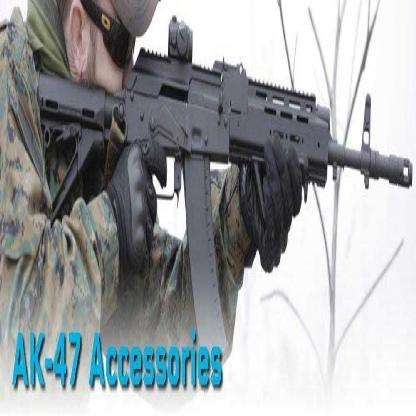Gun: (36, 8, 412, 348)
